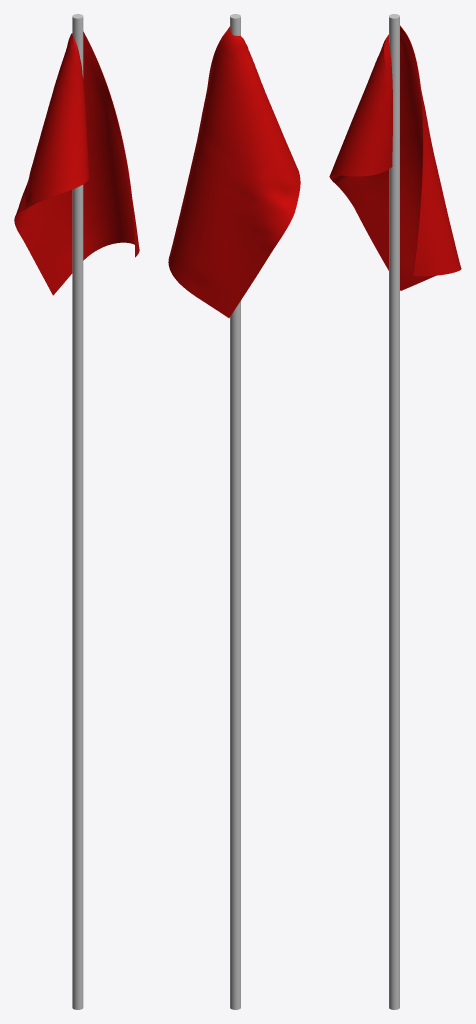
Rendered from flag.fbx.
The picture shows the model from 3 angles, left to right: view 1: azimuth 30°, elevation 25°; view 2: azimuth 150°, elevation 25°; view 3: azimuth 330°, elevation 25°; orthographic projection.
Parts seen in each view (by area): view 1: flag.001, flag; view 2: flag.001, flag; view 3: flag.001, flag.
Part boxes in pixels (<box>): flag.001: <box>14,31,139,295</box>; flag: <box>72,14,83,1009</box>; flag.001: <box>168,26,300,317</box>; flag: <box>230,14,240,1009</box>; flag.001: <box>329,25,461,290</box>; flag: <box>389,14,399,1009</box>.
Bounding box in the file's own units: 24.86 × 200 × 16.03.
